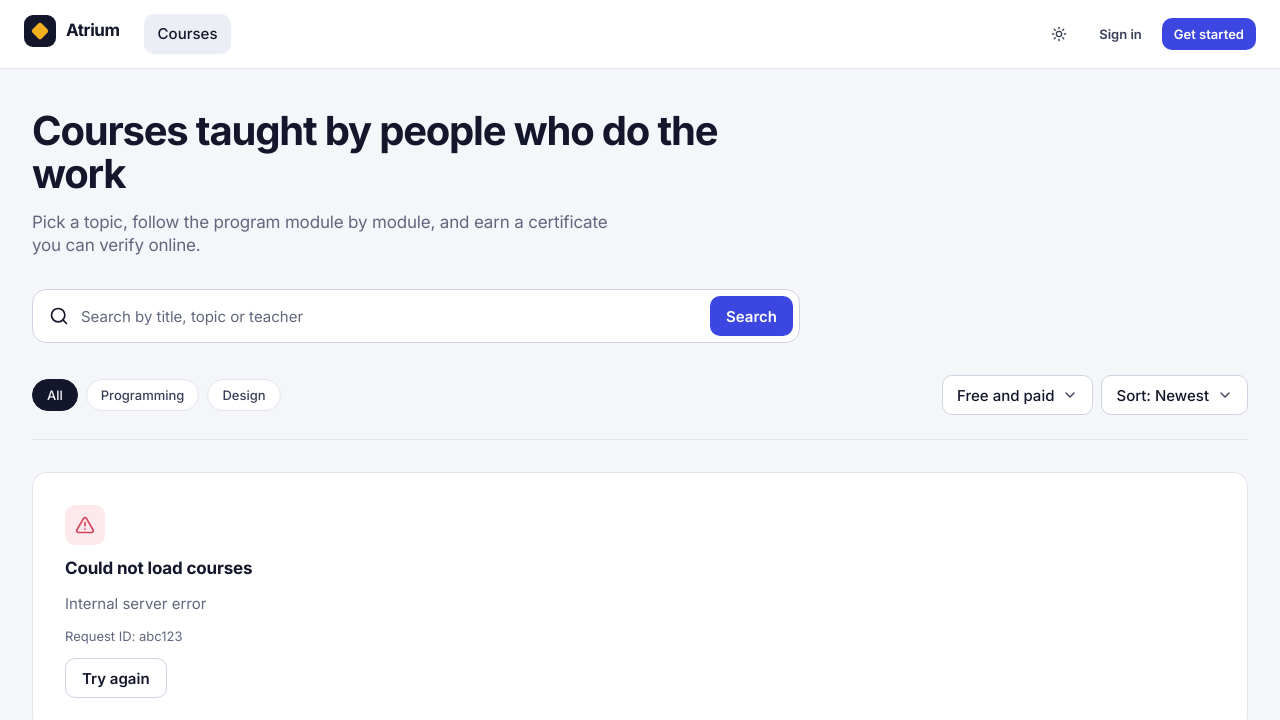
catalog › shows the API error and retries
This screenshot has width=1280, height=720.
Expected: the heading "Could not load courses" is shown, [65,557,252,580]
Expected: the text "Request ID: abc123" is shown, [65,627,182,646]
Click the button "Try again" at (116, 678), box [65,658,167,698]
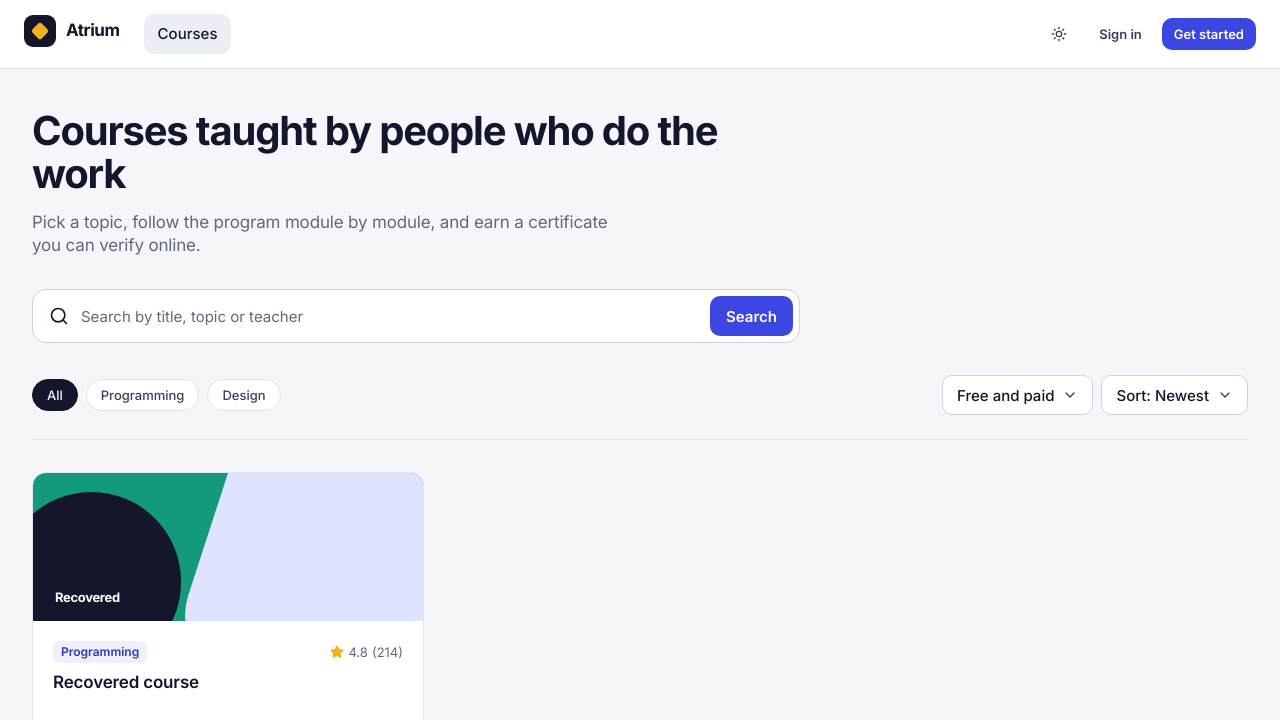
Now the heading "Recovered course" is shown, box [53,672,199,692]
